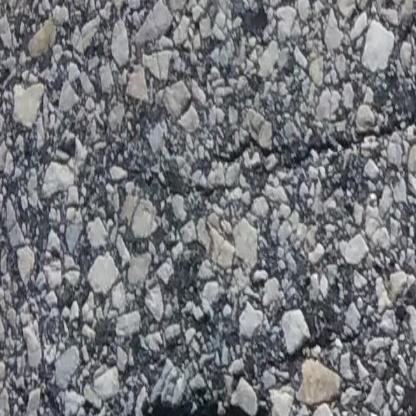Cracks: (139, 396, 296, 416)
